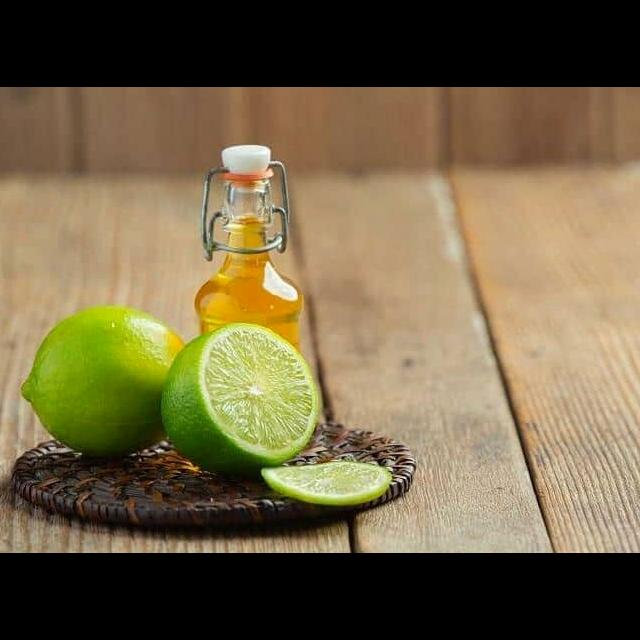lime: (14, 301, 201, 460)
